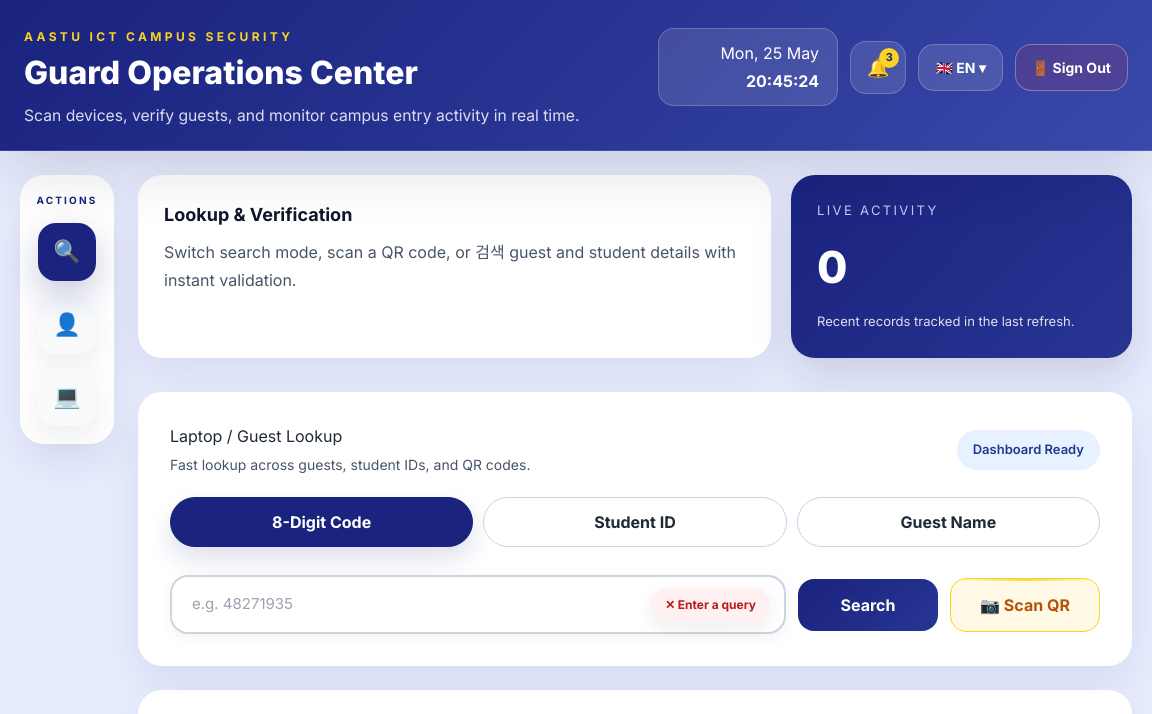
Scenario: GuardDashboard › shows Allow Entry and Allow Exit buttons when status is VERIFIED
This screenshot has width=1152, height=714.
Type "12345678" into the field with placeholder "e.g. 48271935" at (478, 605), box [170,575,786,634]
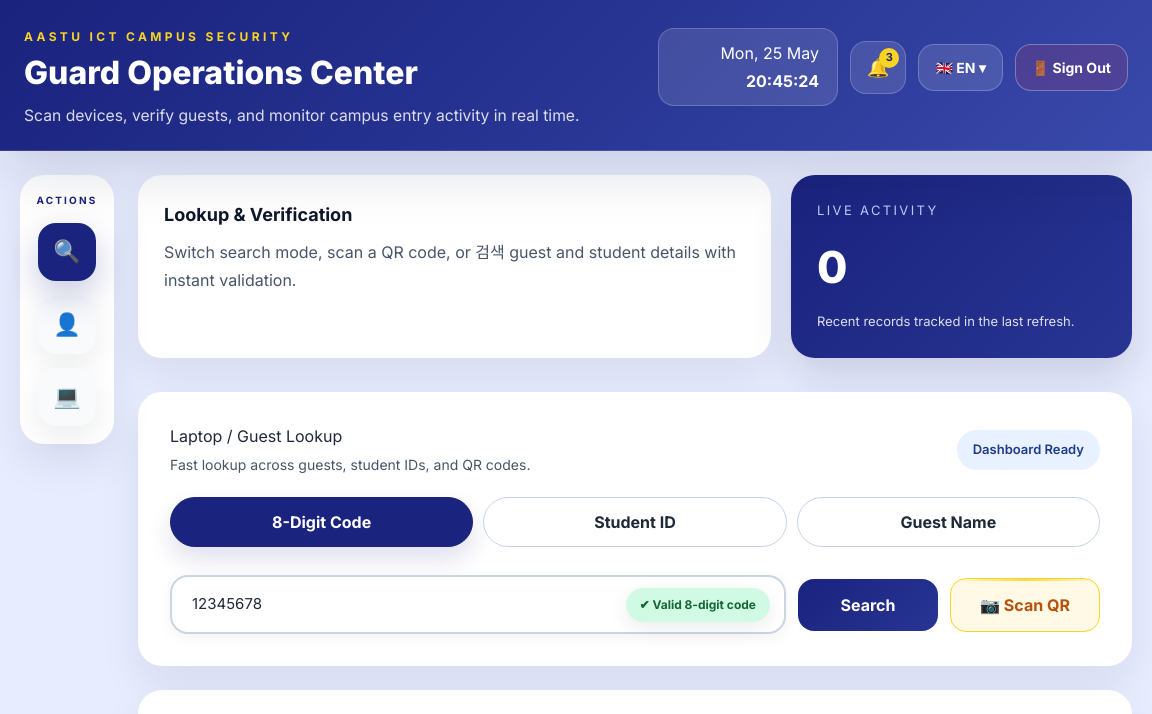
Click the button "Search" at (868, 605), box [798,579,938,631]
(page scrolled)
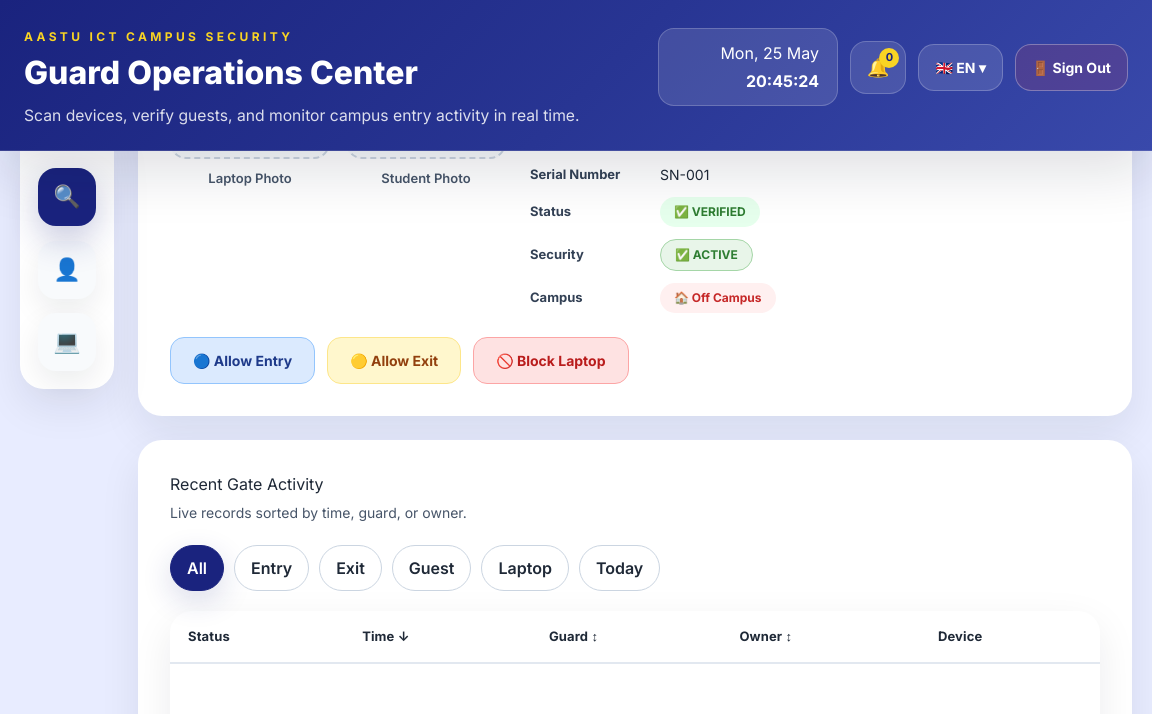
Expected: the button "🔵 Allow Entry" is shown, [170,337,315,384]
Expected: the button "🟡 Allow Exit" is shown, [327,337,461,384]
